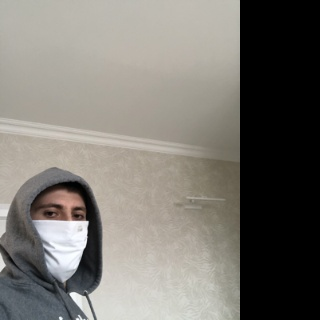with_mask: (30, 198, 88, 283)
